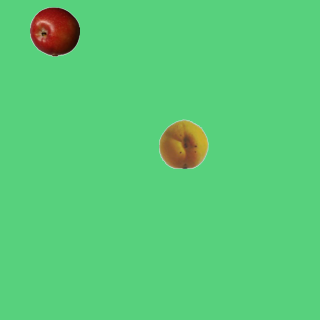Apple Braeburn: (29, 6, 79, 56)
Peach 2: (158, 118, 208, 168)
